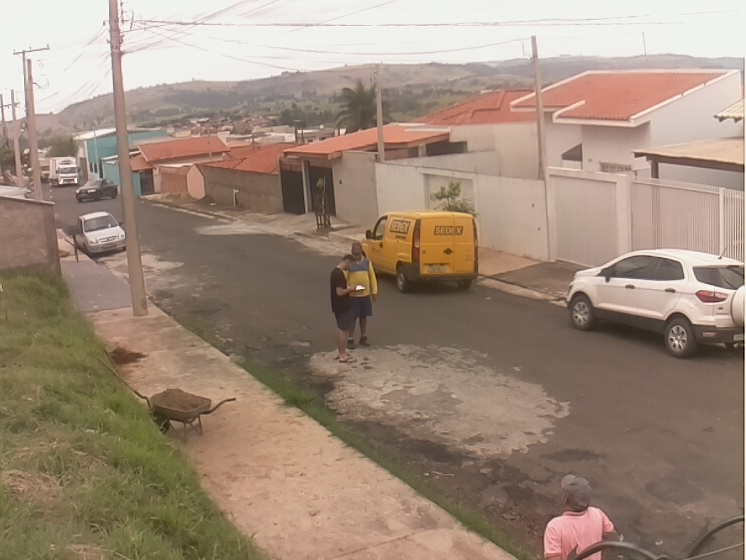person: (541, 473, 617, 560), (344, 241, 379, 351), (328, 253, 360, 364)
